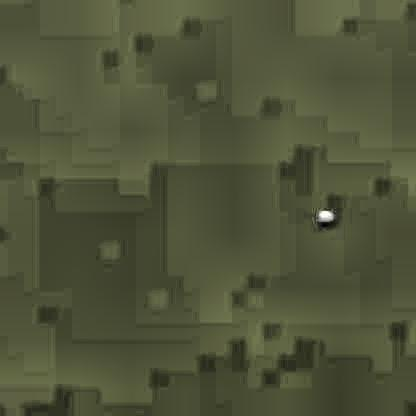golfball: (314, 206, 331, 223)
